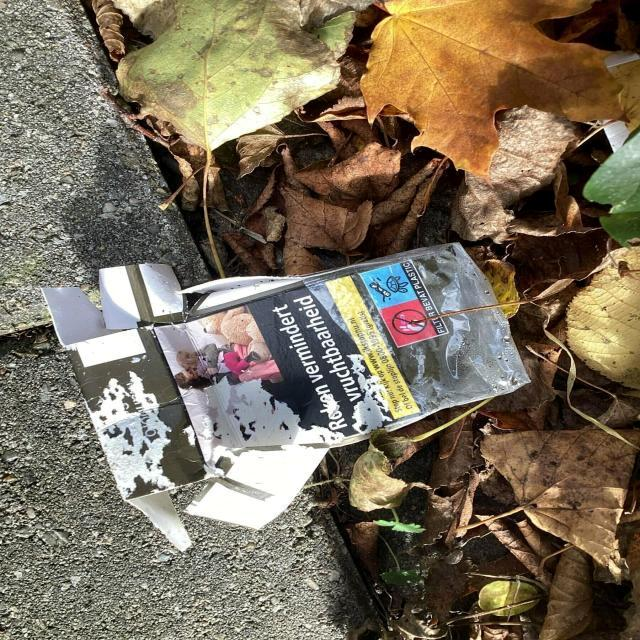Paper: (36, 238, 534, 554)
